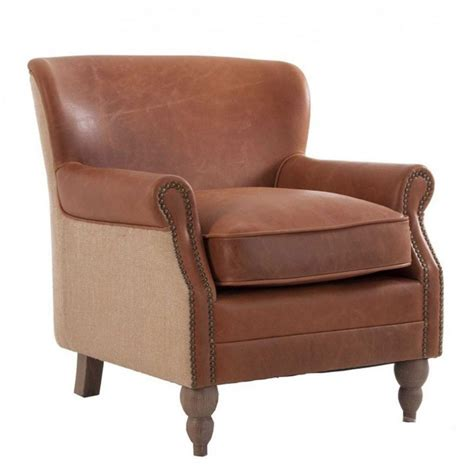cuero: (26, 52, 445, 391)
